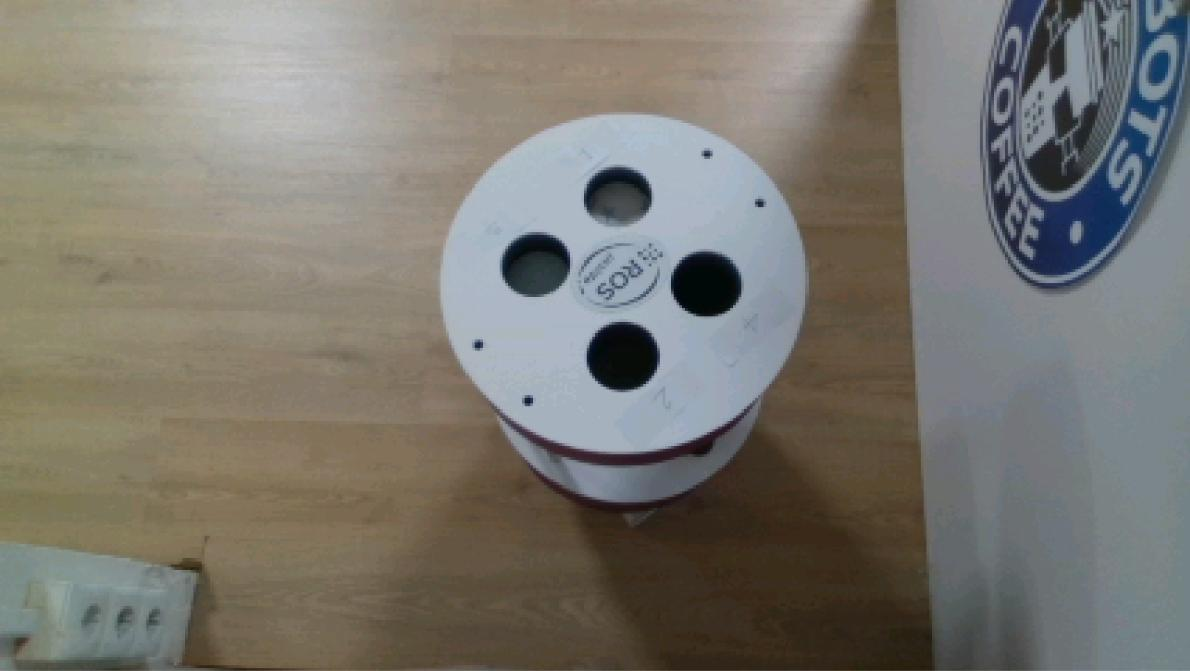hole: (670, 246, 748, 320), (583, 320, 663, 391), (583, 159, 657, 229), (501, 228, 572, 298)
